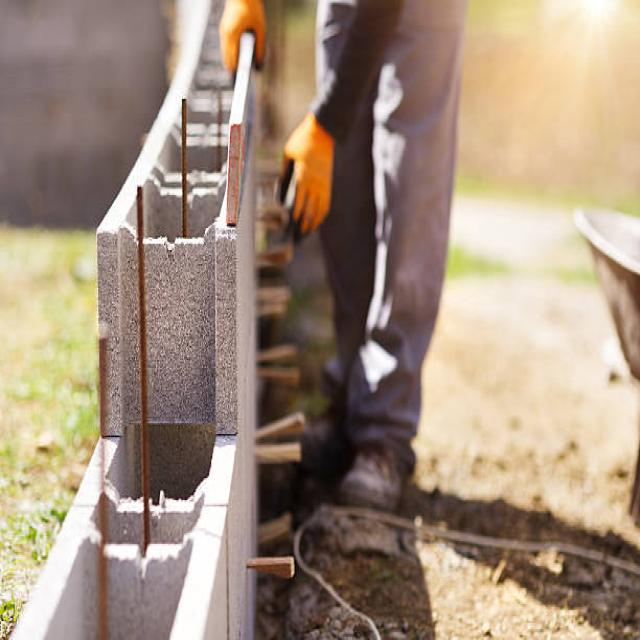Gloves: (271, 103, 337, 259), (213, 0, 273, 97)
person: (214, 0, 470, 513)
